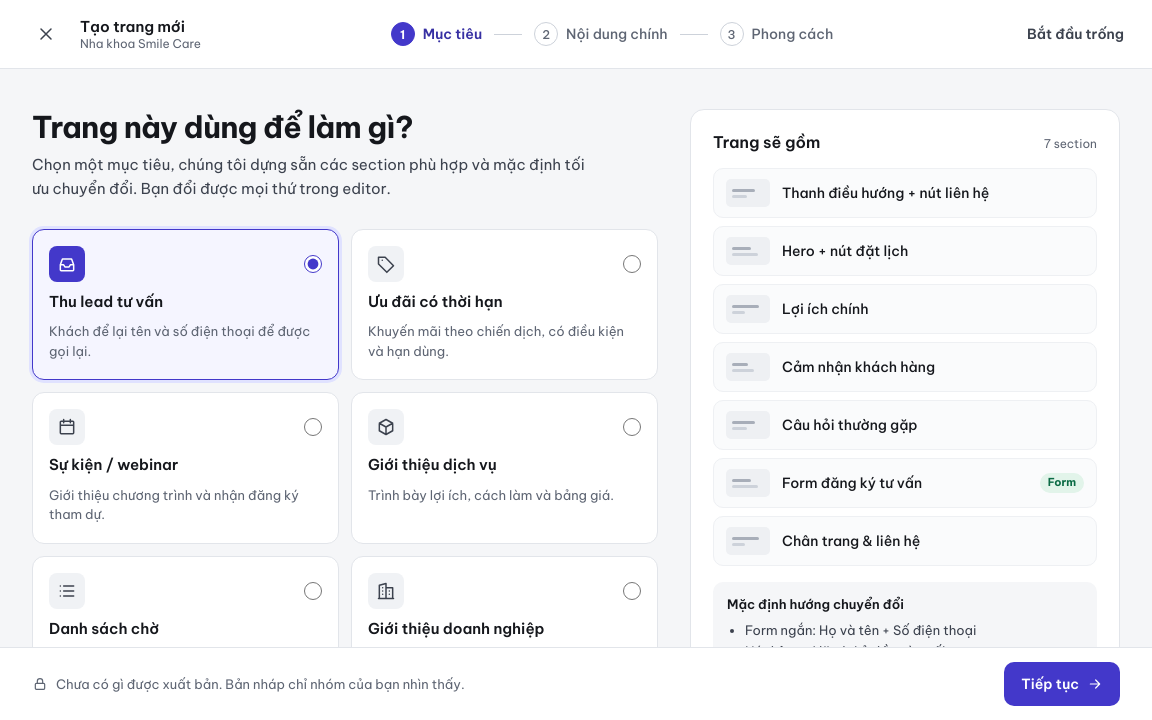
Test: CreatePageWizard › explains the page limit in the footer
Click the button "Tiếp tục" at (1062, 684), box [1004,662,1120,706]
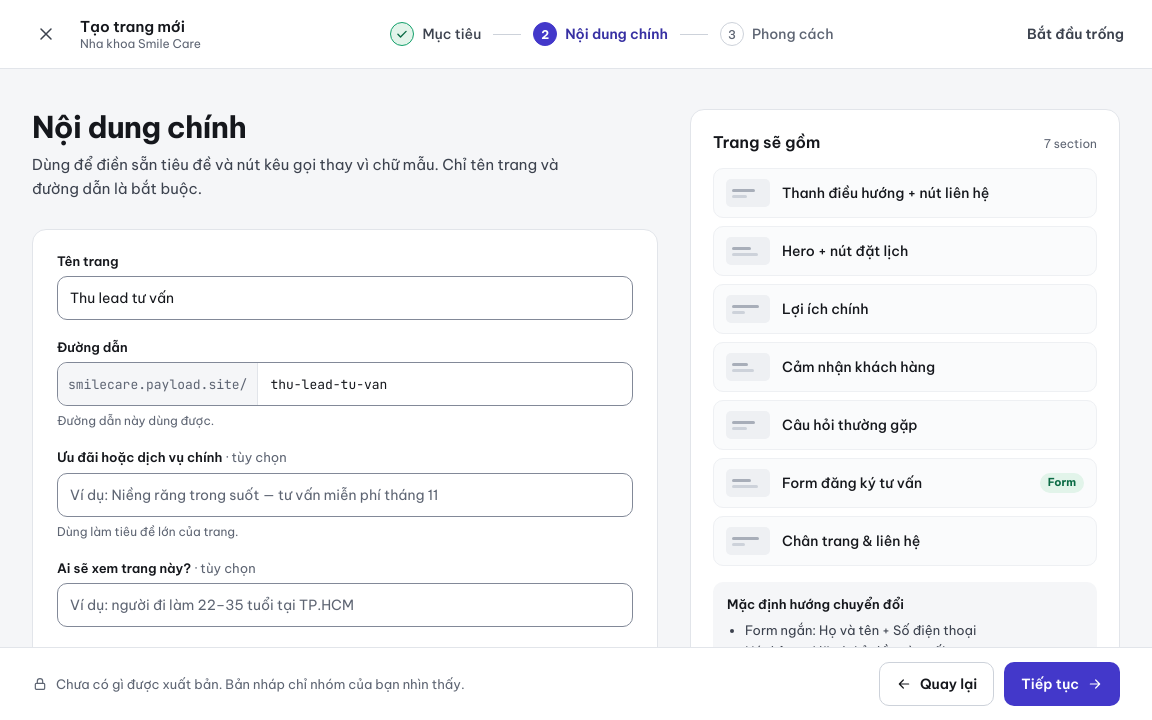
Now the text "Đường dẫn này dùng được." is shown, box [57,413,214,428]
Click the button "Tiếp tục" at (1062, 684), box [1004,662,1120,706]
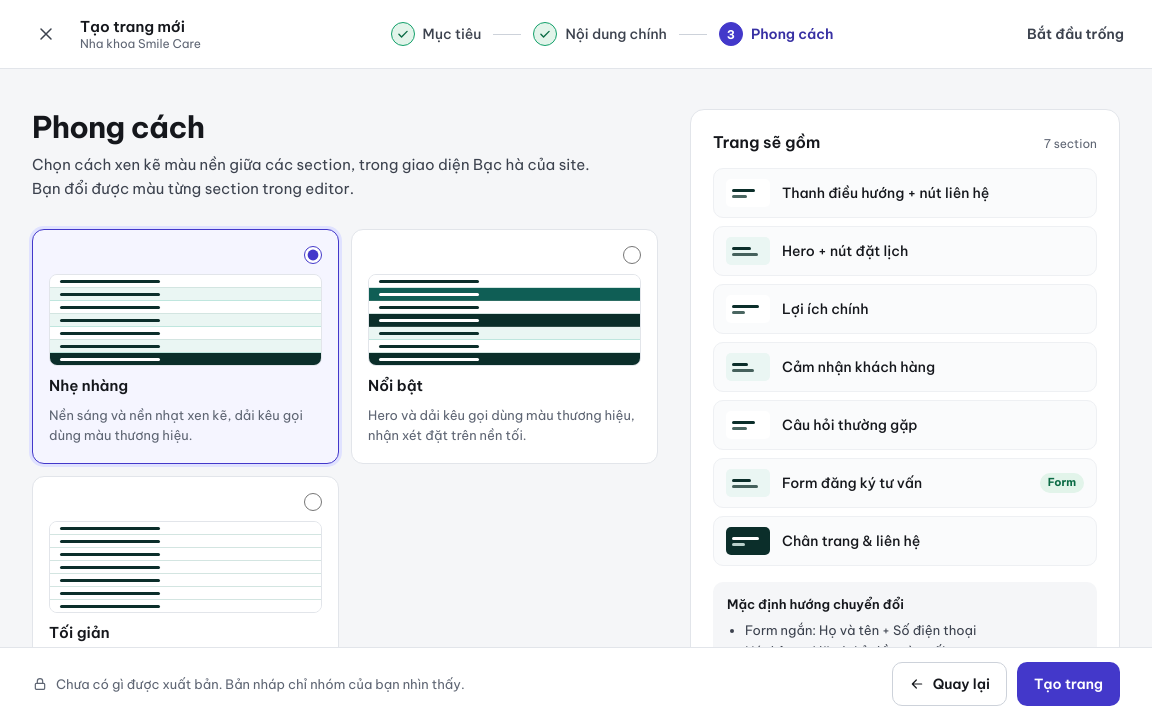
Click the button "Tạo trang" at (1068, 684), box [1017,662,1120,706]
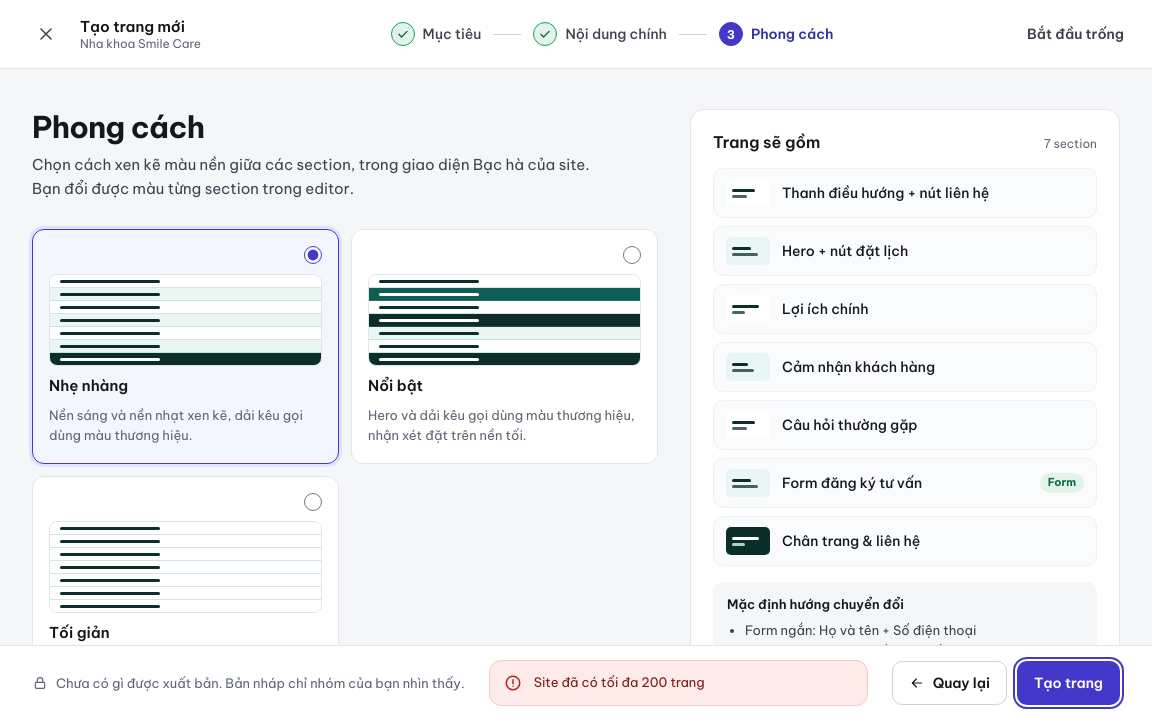
Expected: the element showing "3 Phong cách" is shown, [719,22,833,46]
Now the message reads "Site đã có tối đa 200 trang", box [534,674,705,690]
